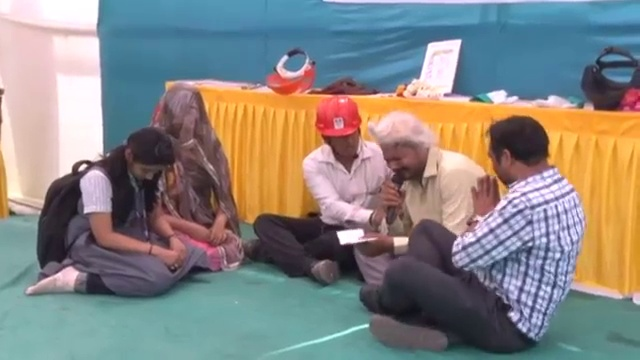helmet: (311, 101, 367, 142)
helmet_off: (482, 118, 562, 192), (372, 111, 440, 187), (116, 127, 172, 185), (156, 86, 208, 148)
helmet_on: (311, 99, 368, 168)
person: (363, 118, 583, 347), (26, 125, 199, 301), (247, 90, 388, 282), (352, 99, 485, 277), (139, 74, 245, 272)
